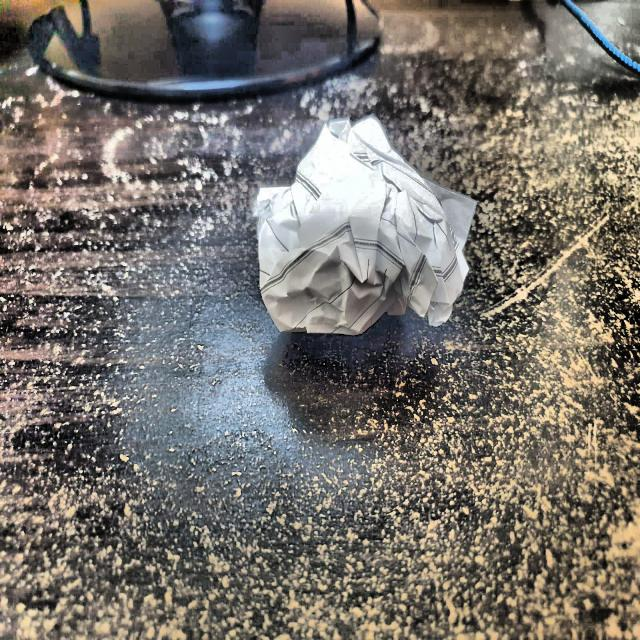Paper: (246, 113, 478, 348)
